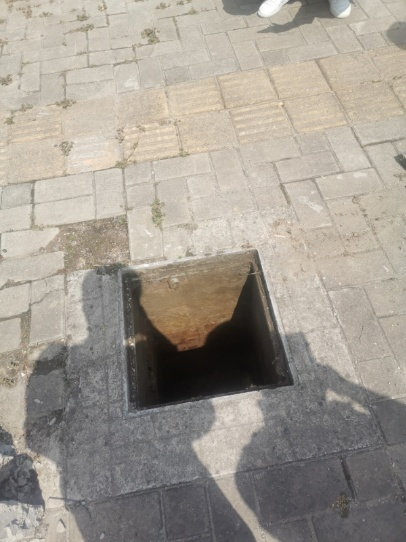lose: (118, 248, 300, 418)
